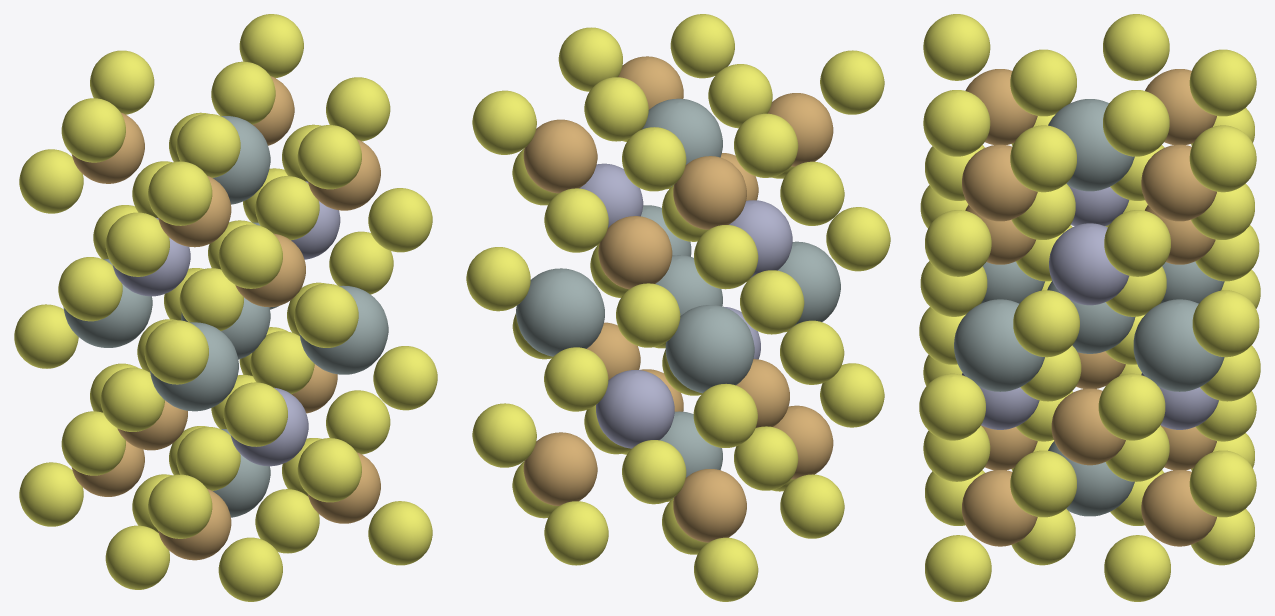
Rendered from CuZnSnS.fbx.
3 views of the same model, side by side, from view 1: azimuth 30°, elevation 25°; view 2: azimuth 150°, elevation 25°; view 3: azimuth 270°, elevation 25° (orthographic). The views are drawn at different scales.
Visible parts, largest first — view 1: Tin|Ball (NURBS)_Tin|Dupli|2.0.0.0.0.0.0.0.0, Tin|Ball (NURBS)_Tin|Dupli|4.0.0.0.0.0.0.0.0, Sulfur|Ball (NURBS)_Sulfur|Dupli|11.0.0.0.0.0.0.0.0, Sulfur|Ball (NURBS)_Sulfur|Dupli|40.0.0.0.0.0.0.0.0, Sulfur|Ball (NURBS)_Sulfur|Dupli|24.0.0.0.0.0.0.0.0, Sulfur|Ball (NURBS)_Sulfur|Dupli|26.0.0.0.0.0.0.0.0, Sulfur|Ball (NURBS)_Sulfur|Dupli|8.0.0.0.0.0.0.0.0, Sulfur|Ball (NURBS)_Sulfur|Dupli|19.0.0.0.0.0.0.0.0, Sulfur|Ball (NURBS)_Sulfur|Dupli|38.0.0.0.0.0.0.0.0, Sulfur|Ball (NURBS)_Sulfur|Dupli|46.0.0.0.0.0.0.0.0, Sulfur|Ball (NURBS)_Sulfur|Dupli|13.0.0.0.0.0.0.0.0, Sulfur|Ball (NURBS)_Sulfur|Dupli|27.0.0.0.0.0.0.0.0 (+47 smaller); view 2: Tin|Ball (NURBS)_Tin|Dupli|5.0.0.0.0.0.0.0.0, Tin|Ball (NURBS)_Tin|Dupli|3.0.0.0.0.0.0.0.0, Zinc|Ball (NURBS)_Zinc|Dupli|1.0.0.0.0.0.0.0.0, Copper|Ball (NURBS)_Copper|Dupli|7.0.0.0.0.0.0.0.0, Copper|Ball (NURBS)_Copper|Dupli|6.0.0.0.0.0.0.0.0, Copper|Ball (NURBS)_Copper|Dupli|3.0.0.0.0.0.0.0.0, Copper|Ball (NURBS)_Copper|Dupli|2.0.0.0.0.0.0.0.0, Copper|Ball (NURBS)_Copper|Dupli|12.0.0.0.0.0.0.0.0, Sulfur|Ball (NURBS)_Sulfur|Dupli|18.0.0.0.0.0.0.0.0, Sulfur|Ball (NURBS)_Sulfur|Dupli|31.0.0.0.0.0.0.0.0, Sulfur|Ball (NURBS)_Sulfur|Dupli|41.0.0.0.0.0.0.0.0, Sulfur|Ball (NURBS)_Sulfur|Dupli|21.0.0.0.0.0.0.0.0 (+39 smaller); view 3: Tin|Ball (NURBS)_Tin|Dupli|5.0.0.0.0.0.0.0.0, Tin|Ball (NURBS)_Tin|Dupli|4.0.0.0.0.0.0.0.0, Zinc|Ball (NURBS)_Zinc|Dupli|3.0.0.0.0.0.0.0.0, Tin|Ball (NURBS)_Tin|Dupli|1.0.0.0.0.0.0.0.0, Copper|Ball (NURBS)_Copper|Dupli|5.0.0.0.0.0.0.0.0, Copper|Ball (NURBS)_Copper|Dupli|7.0.0.0.0.0.0.0.0, Copper|Ball (NURBS)_Copper|Dupli|4.0.0.0.0.0.0.0.0, Copper|Ball (NURBS)_Copper|Dupli|6.0.0.0.0.0.0.0.0, Copper|Ball (NURBS)_Copper|Dupli|9.0.0.0.0.0.0.0.0, Sulfur|Ball (NURBS)_Sulfur|Dupli|21.0.0.0.0.0.0.0.0, Sulfur|Ball (NURBS)_Sulfur|Dupli|31.0.0.0.0.0.0.0.0, Sulfur|Ball (NURBS)_Sulfur|Dupli|37.0.0.0.0.0.0.0.0 (+54 smaller).
Boxes of the visible parts, x1=… form: Tin|Ball (NURBS)_Tin|Dupli|2.0.0.0.0.0.0.0.0: x1=150, y1=322, x2=238, y2=411; Tin|Ball (NURBS)_Tin|Dupli|4.0.0.0.0.0.0.0.0: x1=299, y1=285, x2=388, y2=374; Sulfur|Ball (NURBS)_Sulfur|Dupli|11.0.0.0.0.0.0.0.0: x1=148, y1=161, x2=212, y2=225; Sulfur|Ball (NURBS)_Sulfur|Dupli|40.0.0.0.0.0.0.0.0: x1=223, y1=382, x2=287, y2=446; Sulfur|Ball (NURBS)_Sulfur|Dupli|24.0.0.0.0.0.0.0.0: x1=368, y1=501, x2=432, y2=565; Sulfur|Ball (NURBS)_Sulfur|Dupli|26.0.0.0.0.0.0.0.0: x1=297, y1=125, x2=361, y2=189; Sulfur|Ball (NURBS)_Sulfur|Dupli|8.0.0.0.0.0.0.0.0: x1=148, y1=474, x2=212, y2=538; Sulfur|Ball (NURBS)_Sulfur|Dupli|19.0.0.0.0.0.0.0.0: x1=61, y1=98, x2=125, y2=162; Sulfur|Ball (NURBS)_Sulfur|Dupli|38.0.0.0.0.0.0.0.0: x1=294, y1=283, x2=358, y2=347; Sulfur|Ball (NURBS)_Sulfur|Dupli|46.0.0.0.0.0.0.0.0: x1=373, y1=346, x2=437, y2=410; Sulfur|Ball (NURBS)_Sulfur|Dupli|13.0.0.0.0.0.0.0.0: x1=218, y1=224, x2=282, y2=288; Sulfur|Ball (NURBS)_Sulfur|Dupli|27.0.0.0.0.0.0.0.0: x1=368, y1=188, x2=432, y2=252; Tin|Ball (NURBS)_Tin|Dupli|5.0.0.0.0.0.0.0.0: x1=516, y1=268, x2=604, y2=356; Tin|Ball (NURBS)_Tin|Dupli|3.0.0.0.0.0.0.0.0: x1=665, y1=305, x2=754, y2=393; Zinc|Ball (NURBS)_Zinc|Dupli|1.0.0.0.0.0.0.0.0: x1=596, y1=370, x2=674, y2=448; Copper|Ball (NURBS)_Copper|Dupli|7.0.0.0.0.0.0.0.0: x1=523, y1=119, x2=597, y2=193; Copper|Ball (NURBS)_Copper|Dupli|6.0.0.0.0.0.0.0.0: x1=523, y1=432, x2=597, y2=505; Copper|Ball (NURBS)_Copper|Dupli|3.0.0.0.0.0.0.0.0: x1=673, y1=156, x2=746, y2=229; Copper|Ball (NURBS)_Copper|Dupli|2.0.0.0.0.0.0.0.0: x1=673, y1=469, x2=746, y2=542; Copper|Ball (NURBS)_Copper|Dupli|12.0.0.0.0.0.0.0.0: x1=598, y1=216, x2=672, y2=289; Sulfur|Ball (NURBS)_Sulfur|Dupli|18.0.0.0.0.0.0.0.0: x1=622, y1=440, x2=686, y2=504; Sulfur|Ball (NURBS)_Sulfur|Dupli|31.0.0.0.0.0.0.0.0: x1=472, y1=403, x2=536, y2=467; Sulfur|Ball (NURBS)_Sulfur|Dupli|41.0.0.0.0.0.0.0.0: x1=544, y1=347, x2=608, y2=411; Sulfur|Ball (NURBS)_Sulfur|Dupli|21.0.0.0.0.0.0.0.0: x1=622, y1=127, x2=686, y2=191; Tin|Ball (NURBS)_Tin|Dupli|5.0.0.0.0.0.0.0.0: x1=1133, y1=299, x2=1224, y2=391; Tin|Ball (NURBS)_Tin|Dupli|4.0.0.0.0.0.0.0.0: x1=954, y1=299, x2=1044, y2=391; Zinc|Ball (NURBS)_Zinc|Dupli|3.0.0.0.0.0.0.0.0: x1=1049, y1=223, x2=1129, y2=305; Tin|Ball (NURBS)_Tin|Dupli|1.0.0.0.0.0.0.0.0: x1=1048, y1=99, x2=1134, y2=191; Copper|Ball (NURBS)_Copper|Dupli|5.0.0.0.0.0.0.0.0: x1=962, y1=144, x2=1037, y2=221; Copper|Ball (NURBS)_Copper|Dupli|7.0.0.0.0.0.0.0.0: x1=1141, y1=144, x2=1216, y2=221; Copper|Ball (NURBS)_Copper|Dupli|4.0.0.0.0.0.0.0.0: x1=962, y1=470, x2=1037, y2=546; Copper|Ball (NURBS)_Copper|Dupli|6.0.0.0.0.0.0.0.0: x1=1141, y1=470, x2=1216, y2=546; Copper|Ball (NURBS)_Copper|Dupli|9.0.0.0.0.0.0.0.0: x1=1051, y1=388, x2=1125, y2=465; Sulfur|Ball (NURBS)_Sulfur|Dupli|21.0.0.0.0.0.0.0.0: x1=1189, y1=49, x2=1256, y2=116; Sulfur|Ball (NURBS)_Sulfur|Dupli|31.0.0.0.0.0.0.0.0: x1=1189, y1=450, x2=1256, y2=517; Sulfur|Ball (NURBS)_Sulfur|Dupli|37.0.0.0.0.0.0.0.0: x1=1098, y1=373, x2=1165, y2=440.
Bounding box in the file's own units: 1041 × 1580 × 1041.
